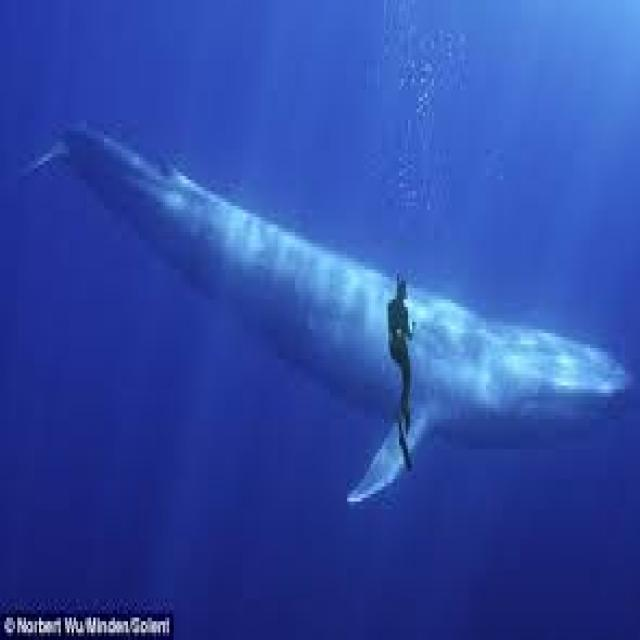blue_whale: (61, 112, 630, 498)
